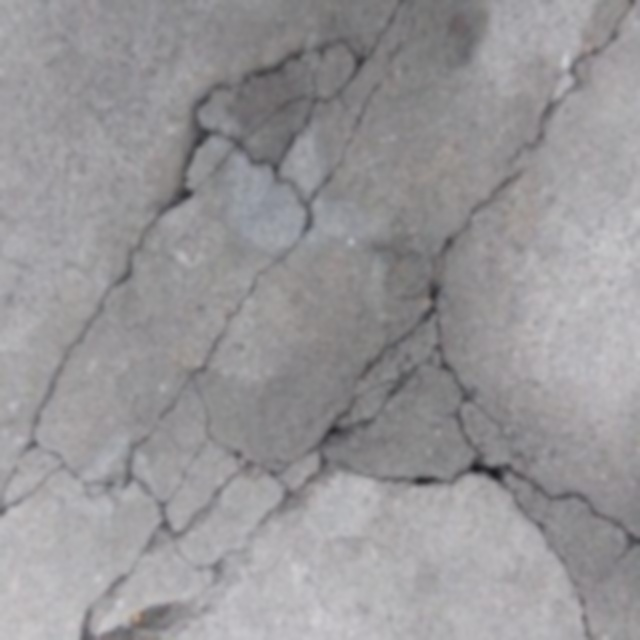SurfaceCrack: (24, 28, 338, 468), (44, 482, 314, 640), (426, 446, 640, 640)
